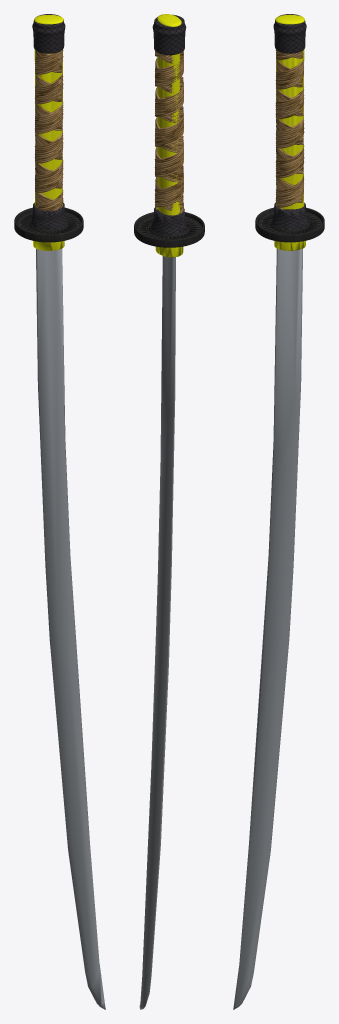
Rendered from katana.glb.
3 views of the same model, side by side, from view 1: azimuth 90°, elevation 25°; view 2: azimuth 210°, elevation 25°; view 3: azimuth 270°, elevation 25° (orthographic). The views are drawn at different scales.
Visible parts, largest first — view 1: Cylinder; view 2: Cylinder; view 3: Cylinder.
Part boxes in pixels (x1=…): Cylinder: x1=14, y1=14, x2=105, y2=1009; Cylinder: x1=134, y1=14, x2=204, y2=1009; Cylinder: x1=233, y1=14, x2=324, y2=1009.
Size of the model in its own units: 0.4144 by 6.54 by 0.547.
Materials: 5 (3 with a texture image).
